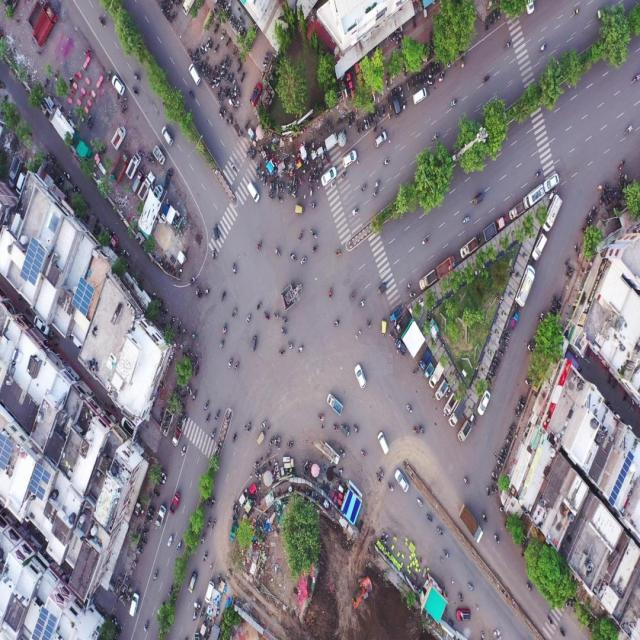3W: (471, 191, 485, 208), (211, 221, 220, 243), (249, 333, 259, 352), (376, 281, 387, 297), (379, 317, 386, 341), (256, 430, 264, 448), (340, 422, 350, 436), (293, 205, 304, 215)
Cars: (533, 232, 548, 262), (353, 363, 366, 394), (394, 466, 409, 492), (245, 181, 261, 204), (456, 604, 473, 624), (160, 124, 175, 146), (188, 62, 201, 87), (342, 148, 358, 168), (321, 167, 337, 187), (187, 570, 199, 596), (478, 390, 491, 414), (249, 82, 262, 106), (130, 591, 141, 619), (110, 75, 126, 94), (372, 130, 388, 148), (412, 87, 427, 106), (390, 89, 400, 117), (542, 175, 558, 192), (378, 432, 389, 456), (204, 580, 213, 603)
LCV: (515, 265, 535, 306), (544, 194, 562, 230), (523, 183, 544, 210), (137, 172, 154, 202), (449, 400, 465, 430), (436, 255, 455, 280), (326, 391, 345, 414), (154, 502, 168, 532), (428, 362, 444, 388), (457, 419, 473, 441), (169, 491, 182, 518), (460, 238, 477, 258), (419, 270, 436, 290), (444, 392, 457, 418), (127, 153, 140, 178), (130, 169, 143, 193), (508, 202, 525, 219), (435, 380, 448, 401), (112, 126, 125, 147), (394, 313, 407, 334), (151, 146, 165, 164), (508, 312, 520, 332), (394, 338, 407, 356), (325, 132, 338, 150), (172, 425, 182, 447), (389, 305, 402, 321), (420, 352, 431, 370), (424, 362, 434, 380)
M2W: (96, 8, 107, 30), (203, 411, 212, 428), (480, 511, 490, 525), (272, 246, 282, 259), (623, 124, 633, 137), (349, 288, 357, 304), (152, 566, 160, 582), (262, 308, 271, 322), (210, 246, 217, 264), (359, 448, 368, 462), (350, 206, 361, 217), (296, 342, 306, 354), (310, 245, 320, 257), (457, 590, 465, 605), (309, 228, 318, 241), (449, 96, 458, 109), (462, 213, 471, 226), (179, 444, 187, 458), (352, 421, 360, 435), (416, 499, 426, 510), (430, 133, 441, 143), (278, 348, 287, 360), (288, 251, 297, 263), (386, 482, 395, 494), (425, 514, 434, 526), (421, 236, 430, 248), (539, 40, 548, 52), (188, 276, 197, 288), (617, 158, 626, 170), (244, 311, 251, 326), (273, 309, 280, 324), (327, 287, 334, 302), (218, 338, 225, 353), (168, 583, 175, 598), (230, 305, 238, 318), (360, 182, 368, 195), (211, 426, 217, 443), (418, 421, 424, 438), (492, 534, 502, 544), (308, 200, 318, 210), (281, 314, 290, 325), (382, 157, 391, 168), (279, 325, 286, 339), (191, 388, 198, 402), (288, 338, 294, 354), (167, 534, 173, 550), (144, 618, 150, 634), (187, 88, 195, 100), (406, 404, 414, 416), (230, 161, 238, 173), (200, 532, 207, 545), (255, 301, 264, 311), (467, 580, 476, 590), (371, 188, 380, 198), (482, 75, 491, 85), (502, 40, 512, 49), (631, 73, 640, 83), (443, 549, 451, 560), (358, 297, 365, 309), (220, 289, 226, 303), (203, 399, 209, 413), (214, 409, 221, 421), (210, 495, 216, 509), (412, 426, 419, 438), (573, 7, 580, 19), (406, 280, 412, 294), (243, 118, 250, 130), (448, 617, 455, 629), (132, 72, 141, 81), (316, 413, 325, 422), (533, 170, 542, 179), (257, 238, 262, 254), (300, 256, 308, 266), (333, 319, 341, 329), (132, 86, 140, 96), (373, 180, 381, 190), (562, 258, 570, 268), (227, 356, 233, 369), (222, 323, 228, 336), (232, 262, 238, 275), (232, 430, 238, 443), (212, 516, 218, 529), (375, 471, 381, 484), (526, 580, 532, 593), (43, 76, 49, 89), (260, 419, 267, 430), (186, 384, 193, 395), (192, 608, 197, 623), (204, 286, 210, 298), (176, 539, 182, 551), (120, 103, 128, 112), (333, 423, 339, 435), (559, 628, 567, 637), (67, 76, 73, 88), (85, 115, 91, 127), (398, 86, 404, 98), (239, 72, 245, 84), (225, 36, 231, 48), (220, 29, 226, 41), (236, 25, 242, 37), (208, 38, 214, 50), (207, 515, 212, 529), (463, 476, 470, 486), (436, 528, 443, 538), (409, 290, 416, 300), (335, 248, 342, 258), (379, 466, 385, 477), (259, 170, 265, 181), (232, 47, 238, 58), (239, 14, 245, 25), (187, 48, 193, 59), (286, 186, 292, 197), (346, 116, 351, 129), (486, 486, 491, 499), (411, 368, 418, 377), (523, 379, 532, 386), (203, 550, 208, 562), (106, 70, 111, 82), (547, 615, 553, 625), (195, 365, 200, 377), (366, 318, 371, 330), (213, 23, 218, 35), (214, 43, 220, 53), (206, 36, 211, 48), (193, 47, 199, 57), (194, 352, 199, 364), (479, 630, 485, 640), (217, 86, 222, 98), (141, 530, 149, 537), (146, 511, 154, 518), (152, 491, 160, 498), (490, 478, 498, 485), (494, 466, 502, 473), (500, 344, 508, 351), (385, 79, 390, 90), (324, 154, 329, 165), (199, 47, 205, 56), (162, 471, 168, 480), (150, 151, 154, 164), (424, 71, 428, 84), (356, 124, 360, 137), (360, 121, 364, 134), (224, 52, 228, 65), (236, 87, 240, 100), (282, 180, 286, 193), (402, 98, 406, 111), (298, 176, 303, 186), (238, 63, 243, 73), (229, 14, 234, 24), (221, 85, 226, 95), (200, 609, 205, 619), (565, 272, 572, 279), (90, 117, 94, 129), (138, 149, 144, 157), (145, 156, 151, 164), (418, 73, 422, 85), (373, 122, 377, 134), (373, 106, 377, 118), (309, 185, 313, 197), (207, 68, 211, 80), (256, 163, 262, 171), (292, 175, 296, 187), (493, 11, 497, 23), (477, 232, 481, 244), (250, 150, 256, 158), (246, 146, 252, 154), (389, 332, 394, 341), (202, 62, 207, 71), (218, 60, 223, 69), (234, 361, 238, 372), (382, 105, 386, 116), (386, 96, 390, 107), (212, 64, 216, 75), (230, 72, 234, 83), (262, 176, 266, 187), (484, 20, 488, 31), (489, 16, 493, 27), (121, 96, 127, 103), (276, 196, 282, 203), (286, 181, 292, 188), (491, 471, 497, 478), (518, 401, 525, 407), (498, 350, 505, 356), (568, 266, 574, 273), (234, 19, 238, 29), (212, 79, 216, 89), (216, 77, 220, 87), (216, 69, 220, 79), (233, 80, 237, 90), (440, 70, 444, 80), (516, 405, 524, 410), (341, 170, 346, 178), (406, 79, 409, 92), (350, 112, 353, 125), (415, 75, 418, 87), (422, 72, 425, 84), (434, 64, 437, 76), (367, 117, 370, 129), (377, 109, 380, 121), (316, 171, 319, 183), (313, 171, 316, 183), (201, 44, 207, 50), (227, 60, 231, 69), (279, 180, 282, 192), (491, 489, 497, 495), (498, 455, 504, 461), (550, 307, 556, 313), (268, 195, 274, 201), (226, 86, 229, 98), (501, 449, 508, 454), (504, 439, 511, 444), (369, 114, 372, 125), (226, 73, 229, 84), (502, 334, 510, 338), (494, 358, 502, 362), (585, 217, 589, 225), (411, 78, 414, 88), (436, 63, 439, 73), (221, 65, 224, 75), (148, 507, 154, 512), (295, 180, 298, 190), (497, 461, 503, 466), (502, 339, 508, 344), (492, 361, 498, 366), (491, 366, 496, 372), (428, 66, 431, 75), (276, 182, 278, 194), (432, 67, 434, 78), (273, 183, 275, 192)
Truck: (33, 0, 56, 42), (460, 504, 482, 547), (113, 152, 129, 181)
